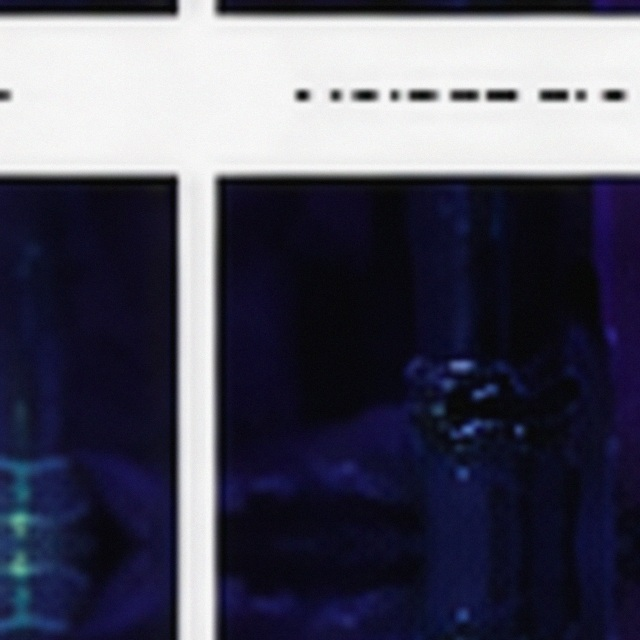hydraulic_oil_leak: (205, 205, 435, 435)
